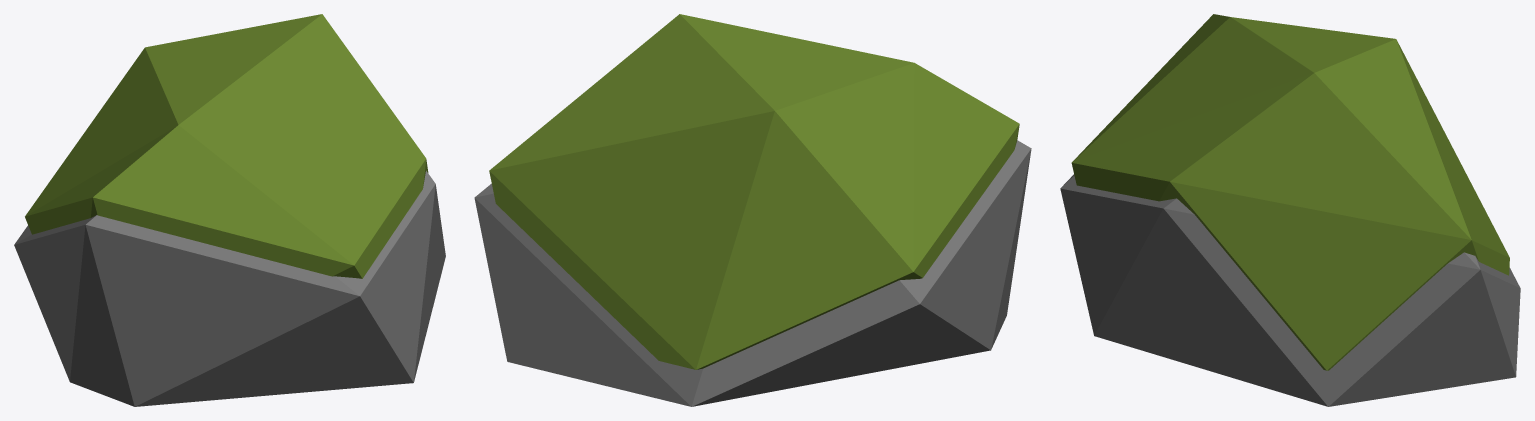
File: Stone_3_moss_vc.fbx
3 views of the same model, side by side, from view 1: azimuth 30°, elevation 25°; view 2: azimuth 150°, elevation 25°; view 3: azimuth 270°, elevation 25° (orthographic). The views are drawn at different scales.
Visible parts, largest first — view 1: Stone_3_moss_vc; view 2: Stone_3_moss_vc; view 3: Stone_3_moss_vc.
Part boxes in pixels (x1,y1,x2,y2): Stone_3_moss_vc: (14, 14, 445, 406); Stone_3_moss_vc: (474, 14, 1031, 406); Stone_3_moss_vc: (1060, 14, 1520, 406).
Bounding box in the file's own units: 23.08 × 14.76 × 22.42.
